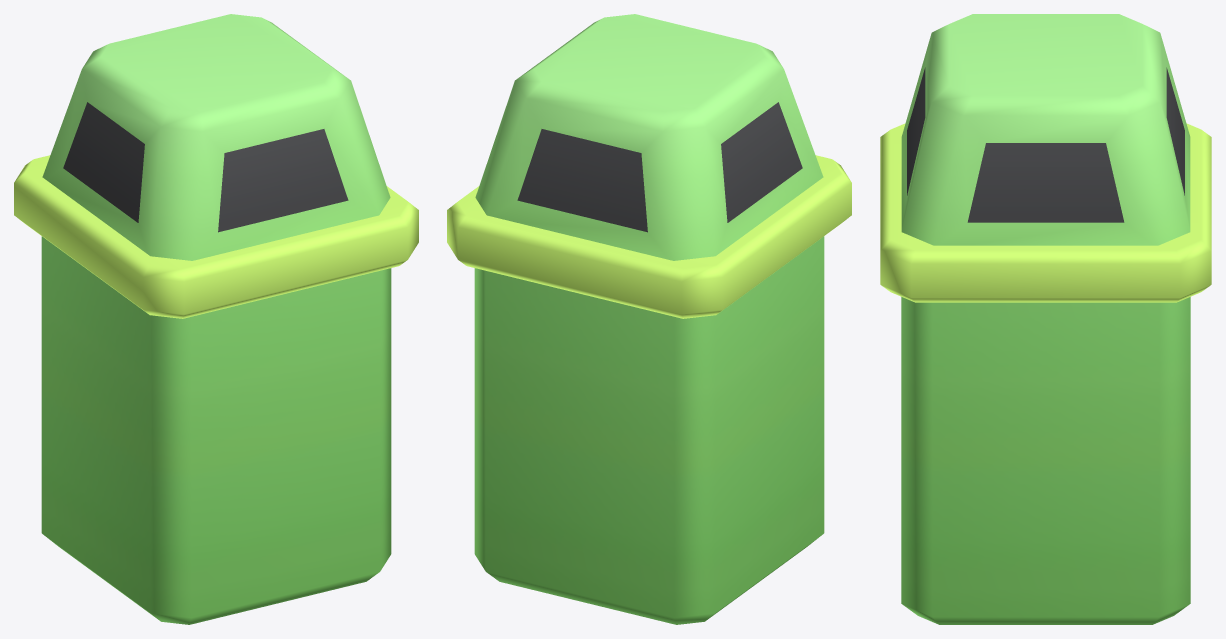
The model's file is city2-trash-can-02.glb.
The picture shows the model from 3 angles, left to right: view 1: azimuth 30°, elevation 25°; view 2: azimuth 150°, elevation 25°; view 3: azimuth 270°, elevation 25°; orthographic projection. The views are drawn at different scales.
Visible parts, largest first — view 1: Trash_Can_02; view 2: Trash_Can_02; view 3: Trash_Can_02.
Boxes of the visible parts, left/top/right/bottom form: Trash_Can_02: left=14, top=14, right=418, bottom=624; Trash_Can_02: left=447, top=14, right=851, bottom=624; Trash_Can_02: left=880, top=14, right=1211, bottom=624.
Bounding box in the file's own units: 0.5099 × 0.8757 × 0.5099.
Materials: 1 (1 with a texture image).
